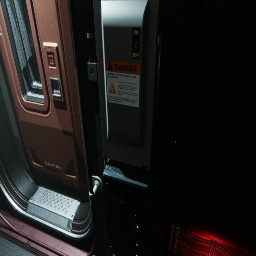SafetySwitchPanel ,: (93, 0, 162, 171)
